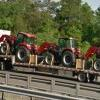Tractor: (13, 21, 99, 83)
